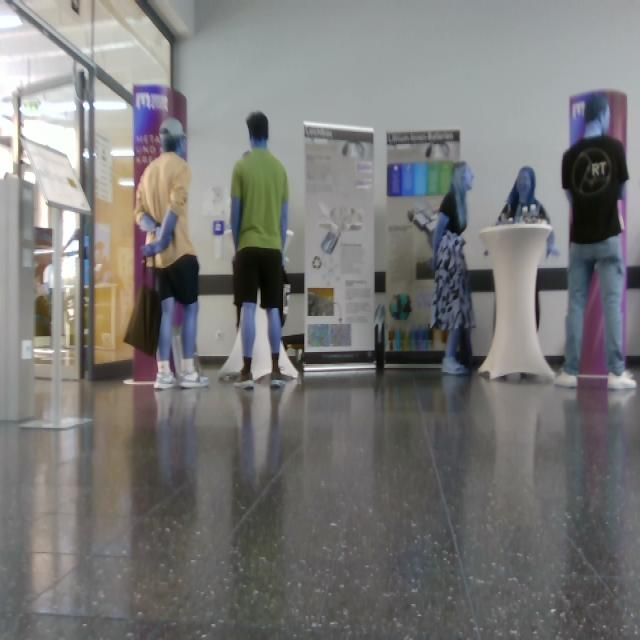door: (302, 121, 377, 368)
light bulb: (159, 117, 186, 138), (426, 142, 450, 160), (342, 140, 365, 158)
person: (555, 93, 637, 392), (134, 117, 211, 390), (231, 111, 294, 391), (431, 161, 476, 376)
tiled floor: (1, 362, 640, 640)
